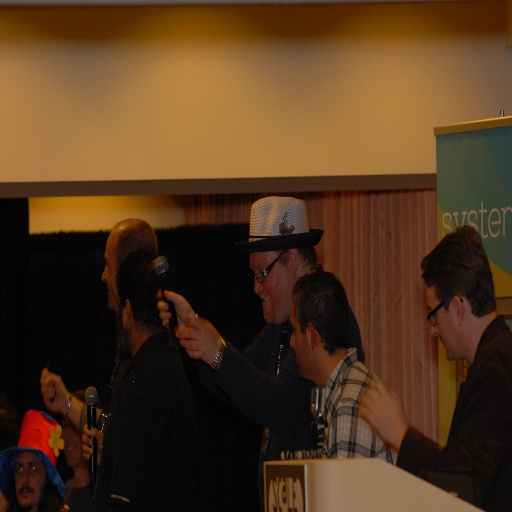hand: (164, 305, 224, 370), (357, 374, 407, 447), (157, 289, 200, 335), (39, 367, 67, 417), (80, 426, 103, 470)
